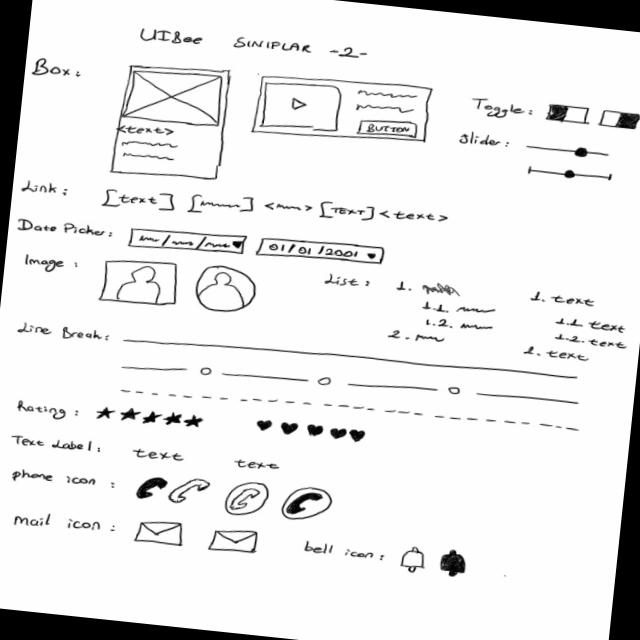button: (356, 116, 421, 143)
container: (109, 60, 236, 187), (250, 69, 436, 154)
icon-button: (98, 255, 182, 309), (194, 263, 260, 317), (281, 484, 335, 525), (223, 479, 272, 521)
image: (122, 66, 227, 130)
label: (136, 24, 371, 68), (12, 509, 105, 537), (16, 218, 118, 243), (8, 468, 100, 494), (15, 321, 112, 345), (8, 433, 105, 457), (302, 539, 388, 563), (469, 97, 537, 124), (15, 399, 82, 422), (20, 253, 81, 278), (31, 57, 86, 82), (459, 130, 512, 151), (231, 457, 284, 475), (21, 180, 70, 199), (326, 272, 371, 292), (133, 448, 187, 464), (550, 294, 598, 309), (544, 349, 590, 364), (590, 319, 628, 336), (587, 338, 629, 350)
link: (100, 185, 177, 215), (187, 191, 257, 220), (317, 200, 377, 226), (379, 208, 450, 226), (116, 124, 176, 140), (263, 200, 314, 216)
select: (254, 234, 388, 271), (128, 223, 250, 260)
slider: (524, 142, 613, 162), (526, 164, 614, 184)
text: (354, 103, 417, 119), (356, 89, 421, 104), (120, 138, 181, 153), (121, 151, 177, 165), (455, 304, 500, 319), (459, 323, 496, 334), (412, 334, 447, 345)
toggle: (545, 103, 592, 127), (598, 109, 640, 131)
